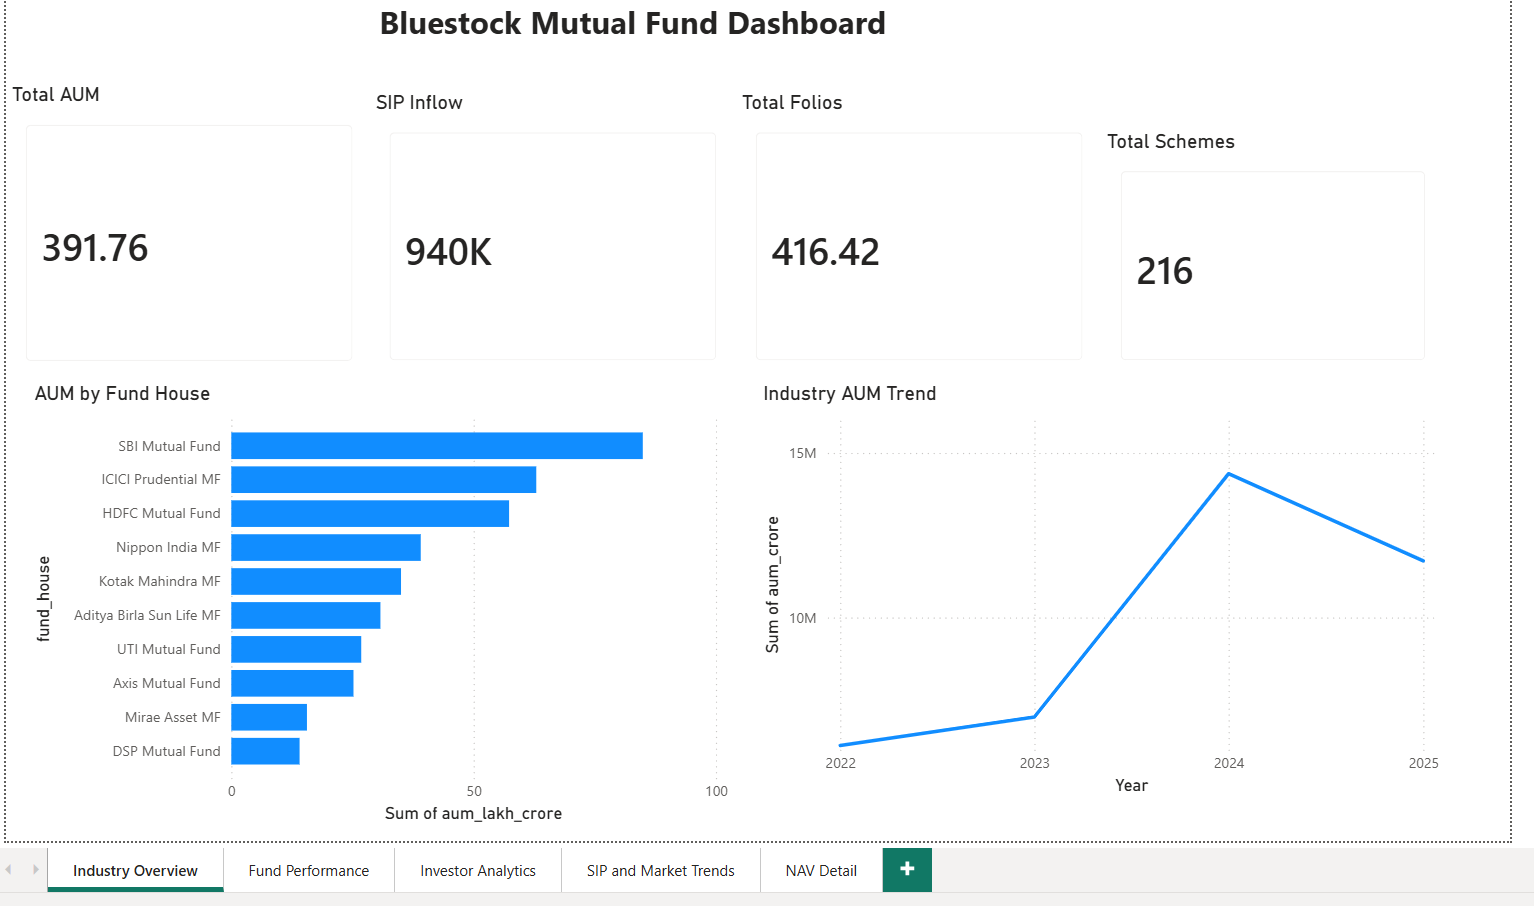

Layout of this report page (visuals, bound fields, positions):
{"tool":"powerbi","page":{"name":"Industry Overview","canvas":[1280,720],"ordinal":0},"visuals":[{"type":"cardVisual","title":"Total AUM","fields":{"Data":["Sum(03_aum_by_fund_house_cleaned.aum_lakh_crore)"]},"box":[0,74,312,255],"z":0},{"type":"cardVisual","title":"Total Schemes","fields":{"Data":["Max(03_aum_by_fund_house_cleaned.num_schemes)"]},"box":[932,114,293,215],"z":1000},{"type":"cardVisual","title":"SIP Inflow","fields":{"Data":["Sum(04_monthly_sip_inflows_cleaned.sip_inflow_crore)"]},"box":[310,81,312,248],"z":2000},{"type":"cardVisual","title":"Total Folios","fields":{"Data":["Sum(06_industry_folio_count_cleaned.total_folios_crore)"]},"box":[621,81,312,248],"z":3000},{"type":"lineChart","title":"Industry AUM Trend","fields":{"Category":["03_aum_by_fund_house_cleaned.date.Variation.Date Hierarchy.Year","03_aum_by_fund_house_cleaned.date.Variation.Date Hierarchy.Quarter","03_aum_by_fund_house_cleaned.date.Variation.Date Hierarchy.Month","03_aum_by_fund_house_cleaned.date.Variation.Date Hierarchy.Day"],"Y":["Sum(03_aum_by_fund_house_cleaned.aum_crore)"]},"box":[639.5,329.2,585,357.1],"z":4000},{"type":"clusteredBarChart","title":"AUM by Fund House","fields":{"Y":["Sum(03_aum_by_fund_house_cleaned.aum_lakh_crore)"],"Category":["03_aum_by_fund_house_cleaned.fund_house"]},"box":[19,329.2,600.2,381.2],"z":5000},{"type":"textbox","box":[241,0,584,51],"z":6000}]}

Visuals, with their boxes on the page's 1280x720 design canvas (x1, y1, x2, y2). These are canvas units, not pixel positions in the 1534x906 screenshot, which may show the page scaled, cropped or inside an application window:
"Total AUM" cardVisual: <bbox>0, 74, 312, 329</bbox>
"Total Schemes" cardVisual: <bbox>932, 114, 1225, 329</bbox>
"SIP Inflow" cardVisual: <bbox>310, 81, 622, 329</bbox>
"Total Folios" cardVisual: <bbox>621, 81, 933, 329</bbox>
"Industry AUM Trend" lineChart: <bbox>640, 329, 1224, 686</bbox>
"AUM by Fund House" clusteredBarChart: <bbox>19, 329, 619, 710</bbox>
textbox: <bbox>241, 0, 825, 51</bbox>
